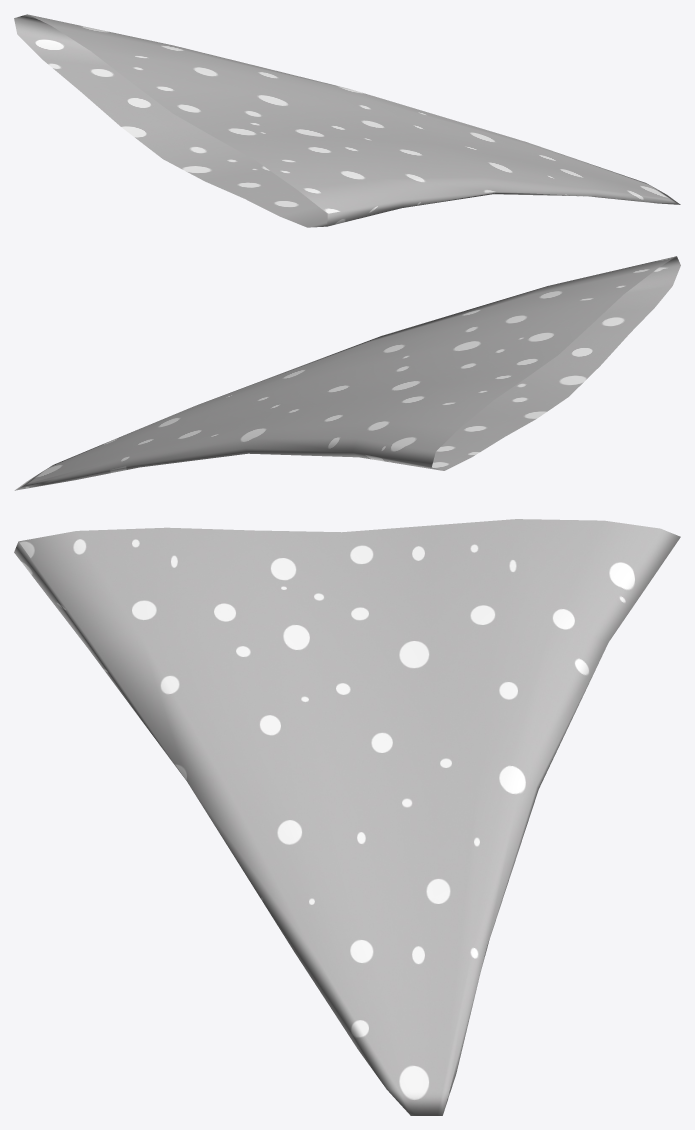
Rendered from aletaIzqManta1.obj.
3 views of the same model, one above another, from view 1: azimuth 30°, elevation 25°; view 2: azimuth 150°, elevation 25°; view 3: azimuth 270°, elevation 25° (orthographic). The views are drawn at different scales.
Visible parts, largest first — view 1: aletaIzqManta1:Box01; view 2: aletaIzqManta1:Box01; view 3: aletaIzqManta1:Box01.
Part boxes in pixels (left/top/right/bottom): aletaIzqManta1:Box01: left=14, top=14, right=680, bottom=227; aletaIzqManta1:Box01: left=14, top=256, right=680, bottom=490; aletaIzqManta1:Box01: left=14, top=519, right=680, bottom=1115.
Size of the model in its own units: 6.23 by 2.71 by 5.62.
1 material, 1 textured.
